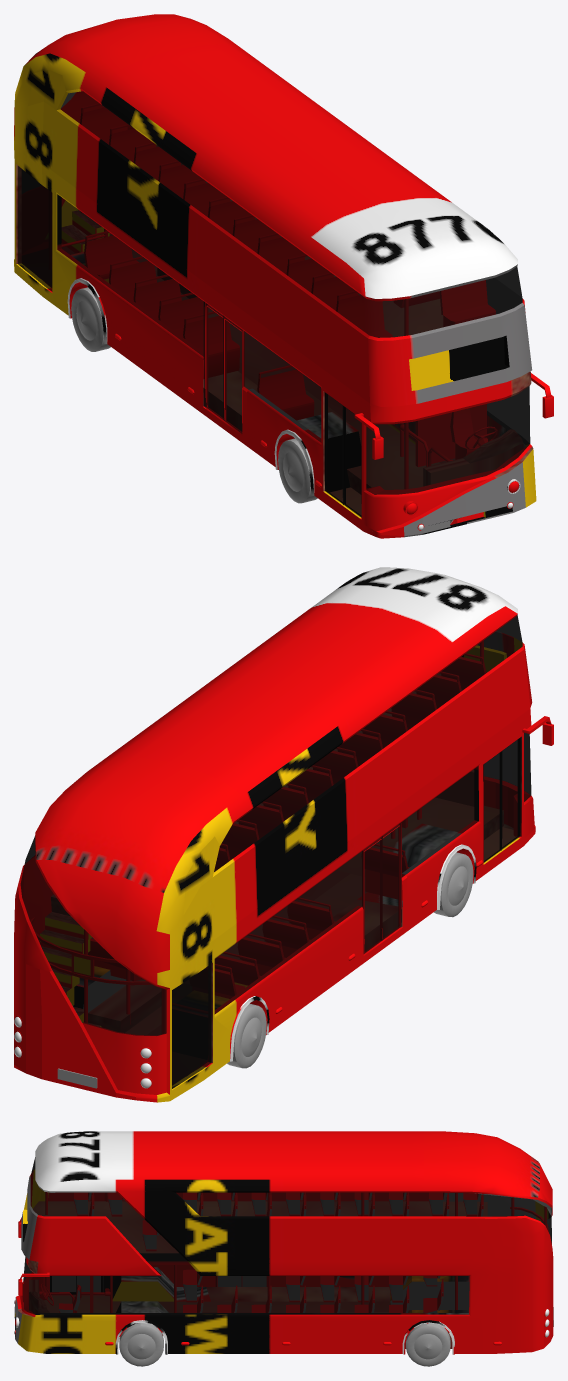
The model's file is Bus_12.fbx.
3 renders of one model, top to bottom at view 1: azimuth 30°, elevation 25°; view 2: azimuth 150°, elevation 25°; view 3: azimuth 270°, elevation 25°, orthographic. The views are drawn at different scales.
Visible parts, largest first — view 1: Bus_12body, WindowGlass, Bus_12_L_DoorGlass, Bus_12_R_DoorGlass, FL, RL; view 2: Bus_12body, WindowGlass, Bus_12_L_DoorGlass, Bus_12_R_DoorGlass, RL, FL; view 3: Bus_12body, WindowGlass, FR, RR, Bus_12_L_DoorGlass.
Boxes of the visible parts, <box> form: Bus_12body: <box>14,14,553,538</box>; WindowGlass: <box>17,91,530,494</box>; Bus_12_L_DoorGlass: <box>342,405,361,517</box>; Bus_12_R_DoorGlass: <box>325,392,342,503</box>; FL: <box>278,438,317,503</box>; RL: <box>71,287,110,351</box>; Bus_12body: <box>14,567,553,1102</box>; WindowGlass: <box>20,615,531,1088</box>; Bus_12_L_DoorGlass: <box>501,737,521,849</box>; Bus_12_R_DoorGlass: <box>483,751,501,862</box>; RL: <box>227,1003,266,1068</box>; FL: <box>434,852,473,917</box>; Bus_12body: <box>14,1131,553,1354</box>; WindowGlass: <box>23,1157,551,1314</box>; FR: <box>119,1323,163,1366</box>; RR: <box>406,1323,450,1366</box>; Bus_12_L_DoorGlass: <box>52,1276,75,1291</box>.
Size of the model in its own units: 309 by 465 by 1162.
